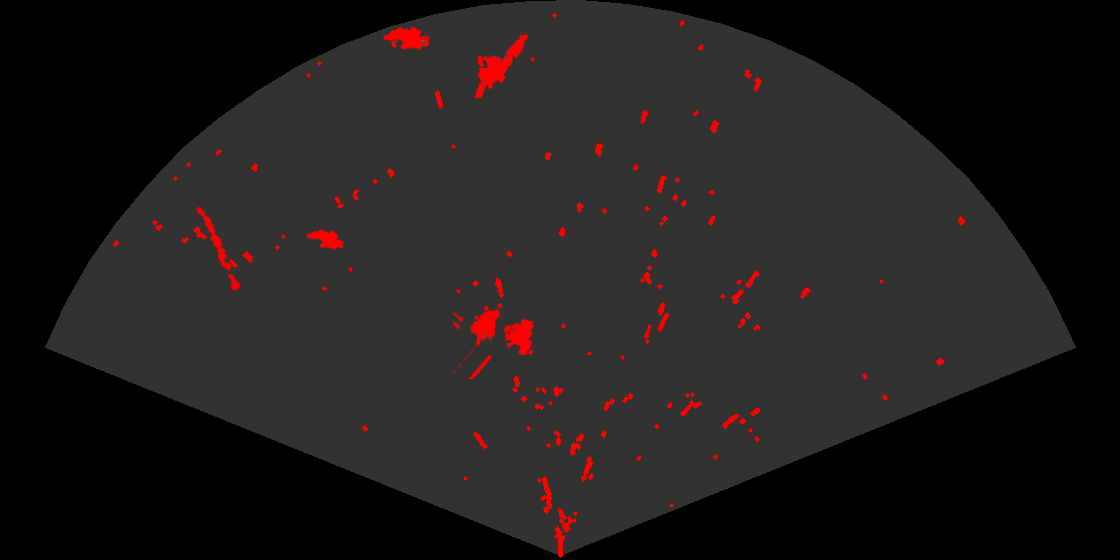AUV: (381, 25, 430, 51), (304, 227, 345, 252)
cage: (453, 302, 535, 379)
chain: (195, 205, 242, 293)
frogman: (473, 32, 530, 98)
